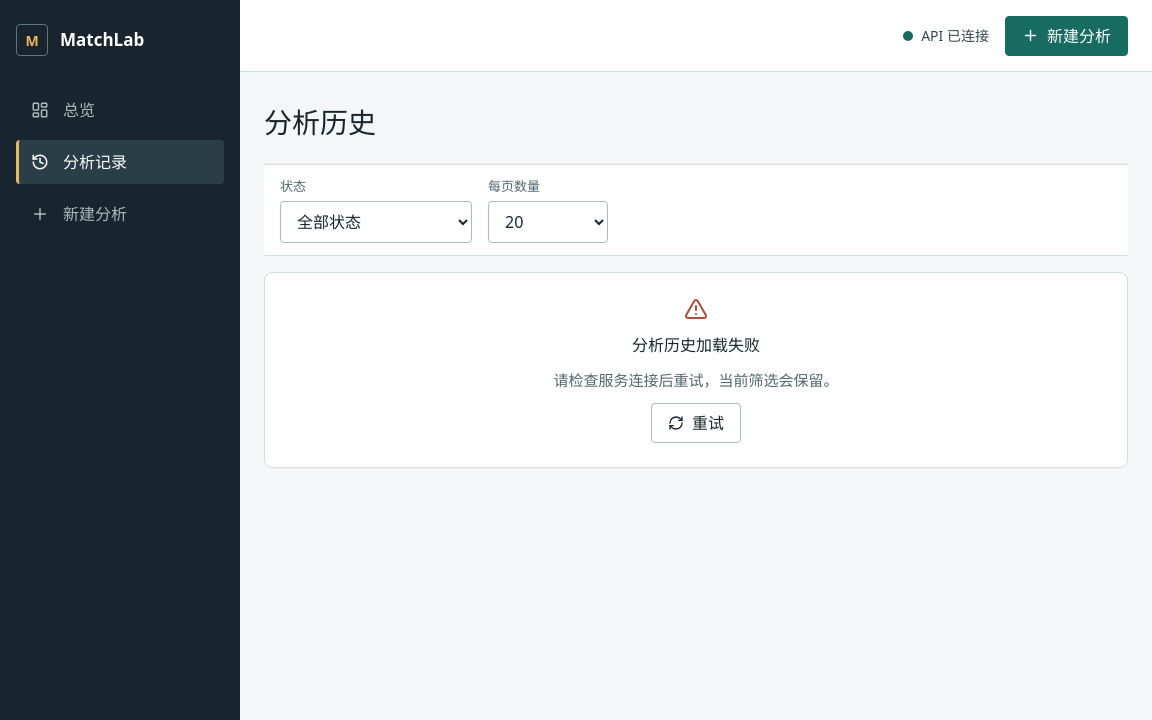
it: renders the responsive product shell navigation and active-page cue
The width and height of the screenshot is (1152, 720).
Expected: the link "M MatchLab" is shown, [16, 24, 144, 56]
Expected: the navigation bar named "主导航" is shown, [16, 88, 224, 236]
Click the link "新建分析" next to "API 已连接": (1066, 36) [1005, 16, 1128, 56]
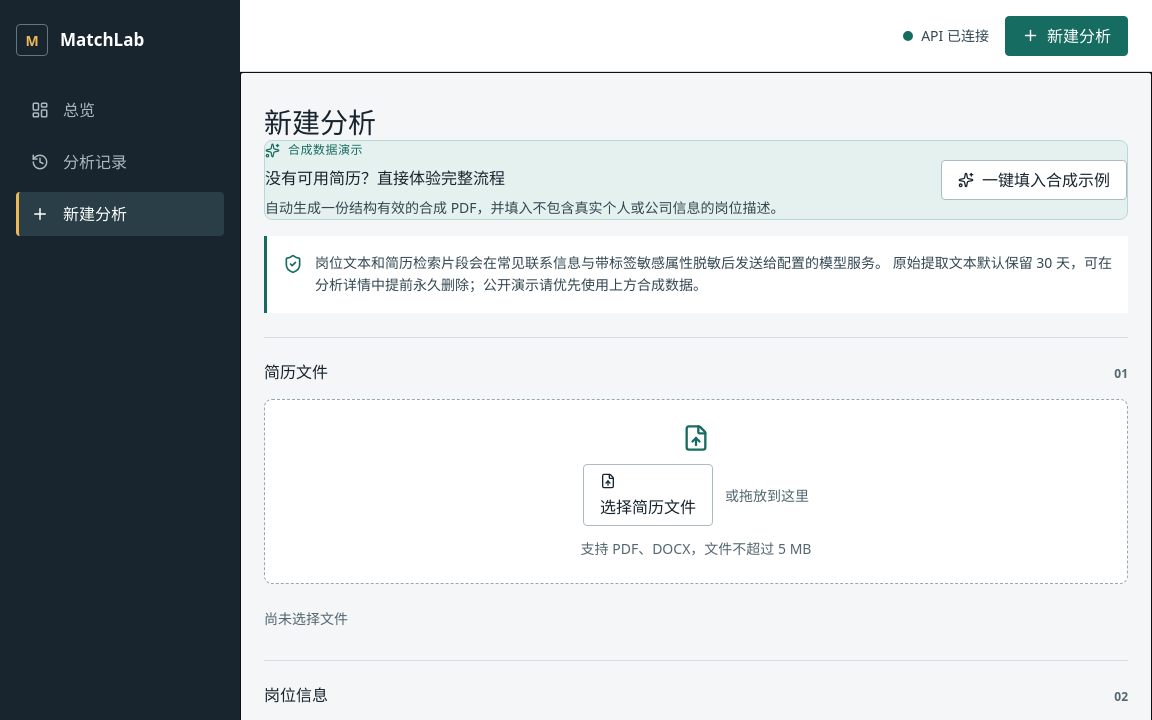
Expected: the heading "新建分析" is shown, [264, 104, 376, 140]
